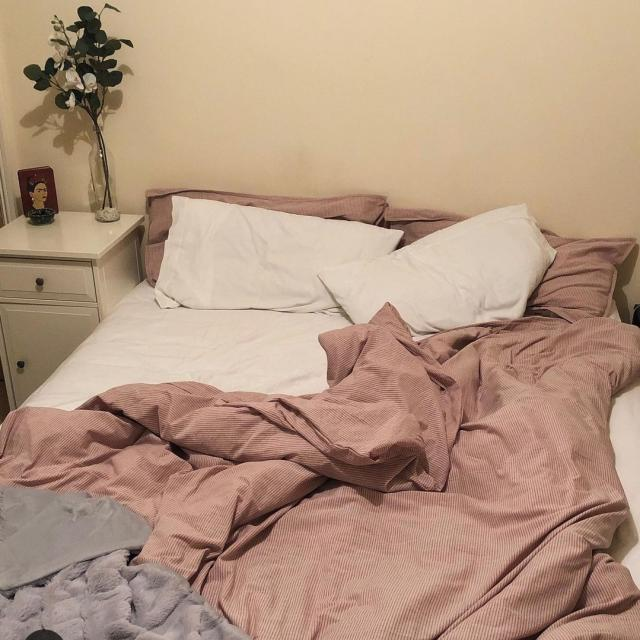bed: (1, 163, 632, 640)
